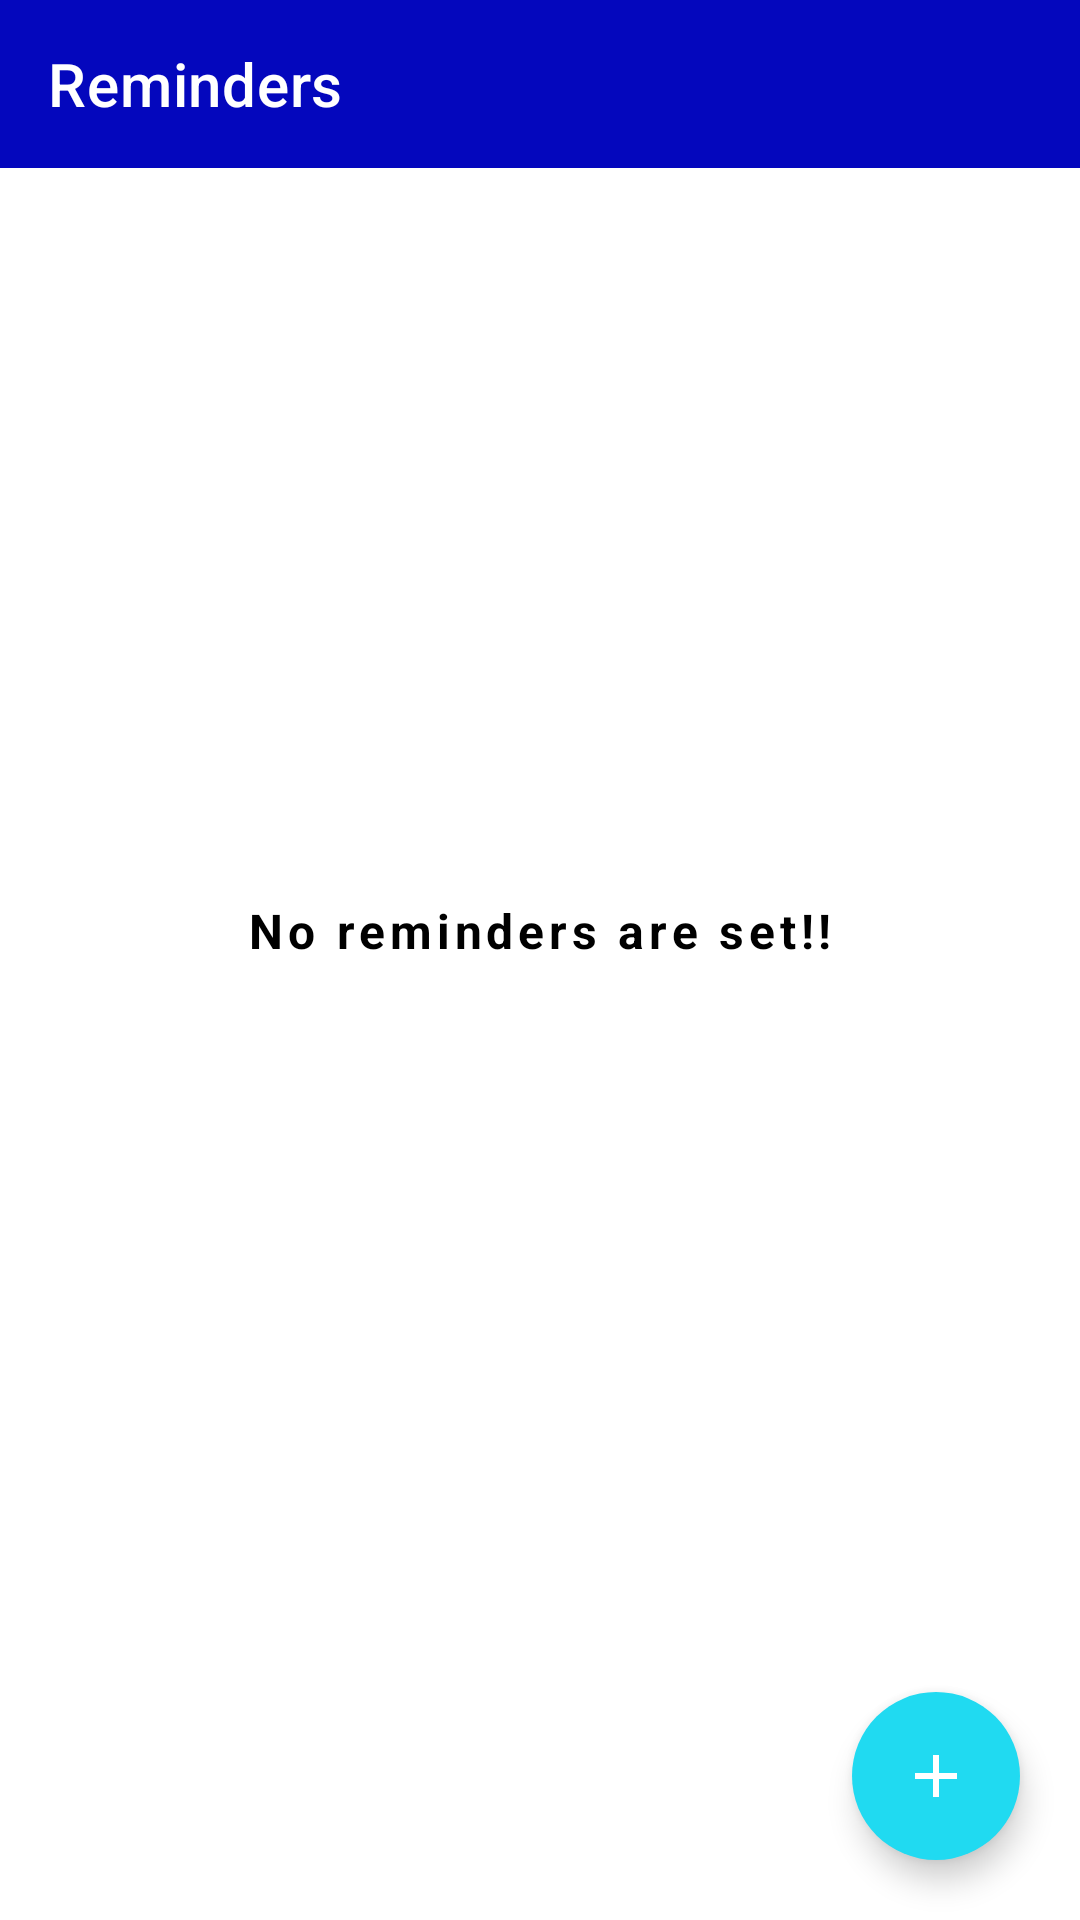

Named icons in this screenshot (1080px×1920px) and their centers, (x=x, y=y):
Add reminder: (x=936, y=1776)
